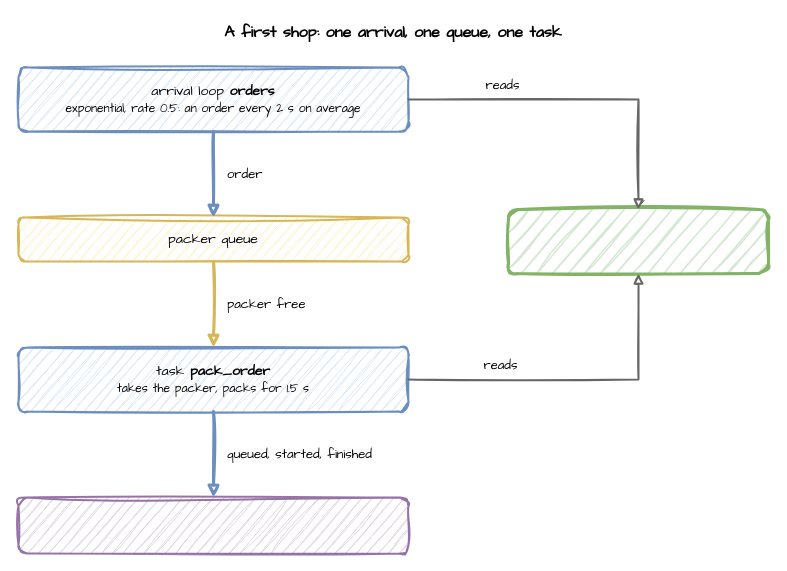
Image size: 787x571. Some labels were removed from this diagram. The centre of each missing label's shape, as x and y in pixels:
ConsoleEgress prints each record: [213,525]
registry Shop rate, capacity, value: [638,241]
